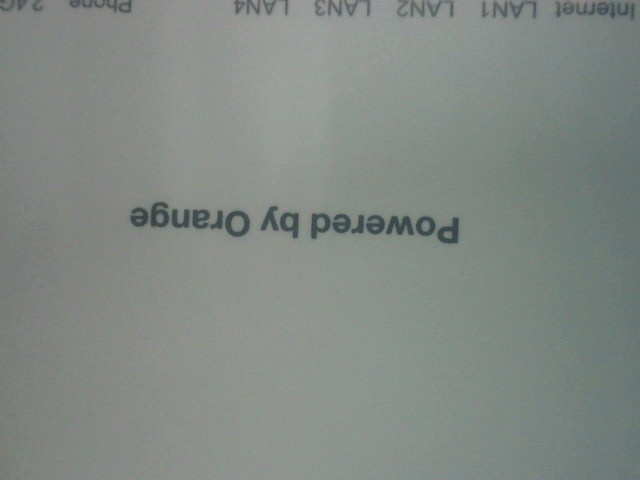AS_PowerByOrange: (107, 183, 466, 256)
